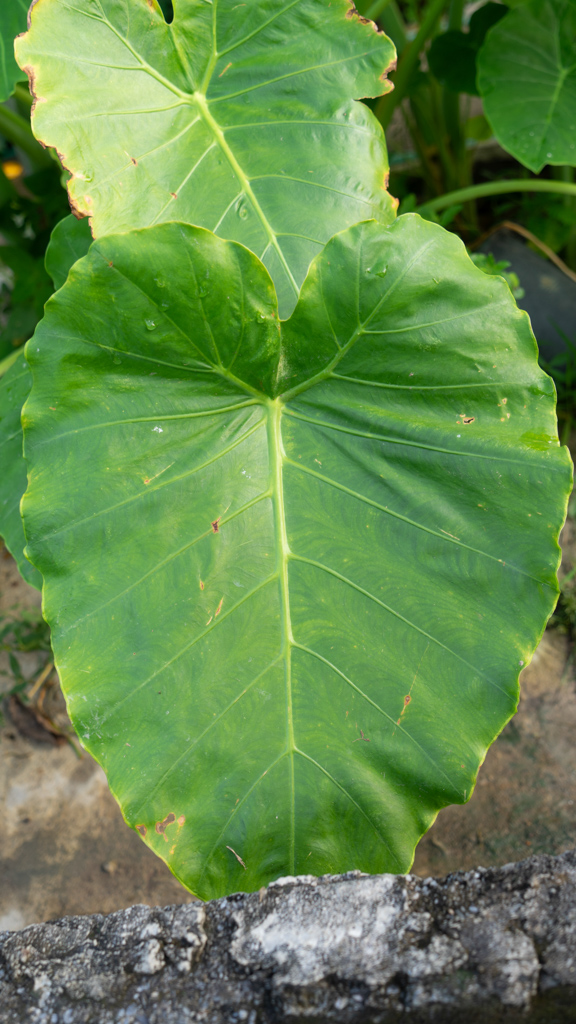Canker: (377, 672, 428, 734), (449, 393, 514, 434), (132, 808, 189, 852), (192, 493, 239, 542)
frog-eye leafspot: (121, 147, 143, 171), (163, 183, 181, 200)
